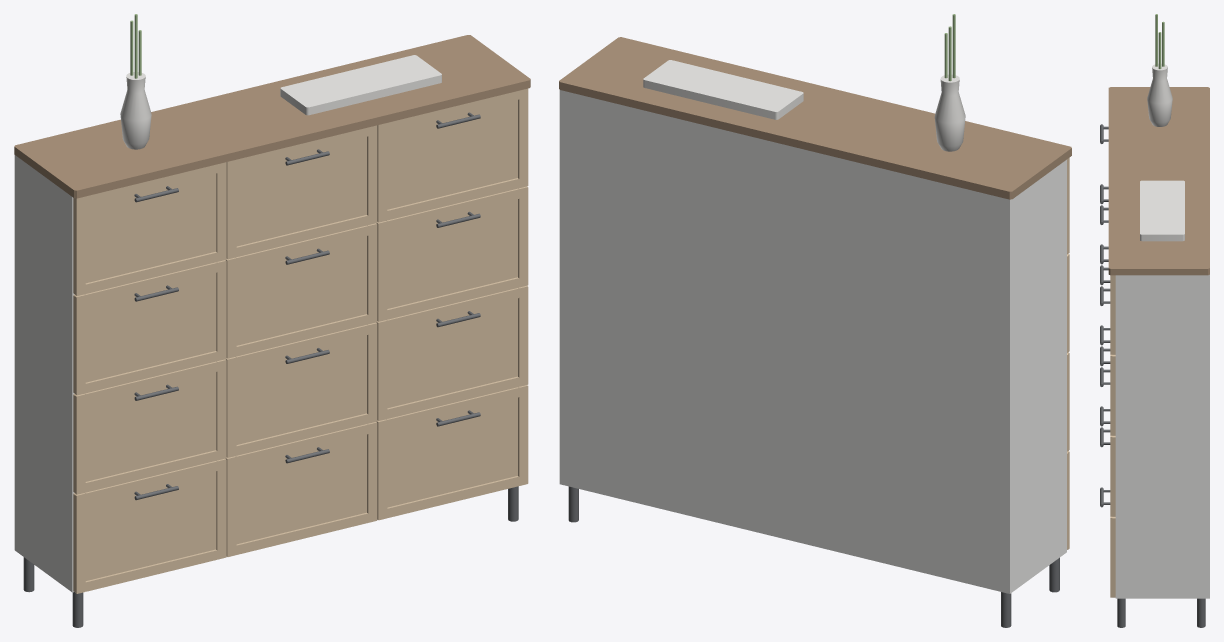
The picture shows the model from 3 angles, left to right: view 1: azimuth 30°, elevation 25°; view 2: azimuth 150°, elevation 25°; view 3: azimuth 270°, elevation 25°; orthographic projection. The views are drawn at different scales.
Parts seen in each view (by area): view 1: Tủ giày Dài=1500; Sâu=350; view 2: Tủ giày Dài=1500; Sâu=350; view 3: Tủ giày Dài=1500; Sâu=350.
Part boxes in pixels (left/top/right/bottom): Tủ giày Dài=1500; Sâu=350: left=14, top=14, right=530, bottom=627; Tủ giày Dài=1500; Sâu=350: left=559, top=14, right=1071, bottom=627; Tủ giày Dài=1500; Sâu=350: left=1100, top=14, right=1209, bottom=627.
Size of the model in its own units: 1.51 by 1.82 by 0.385.
